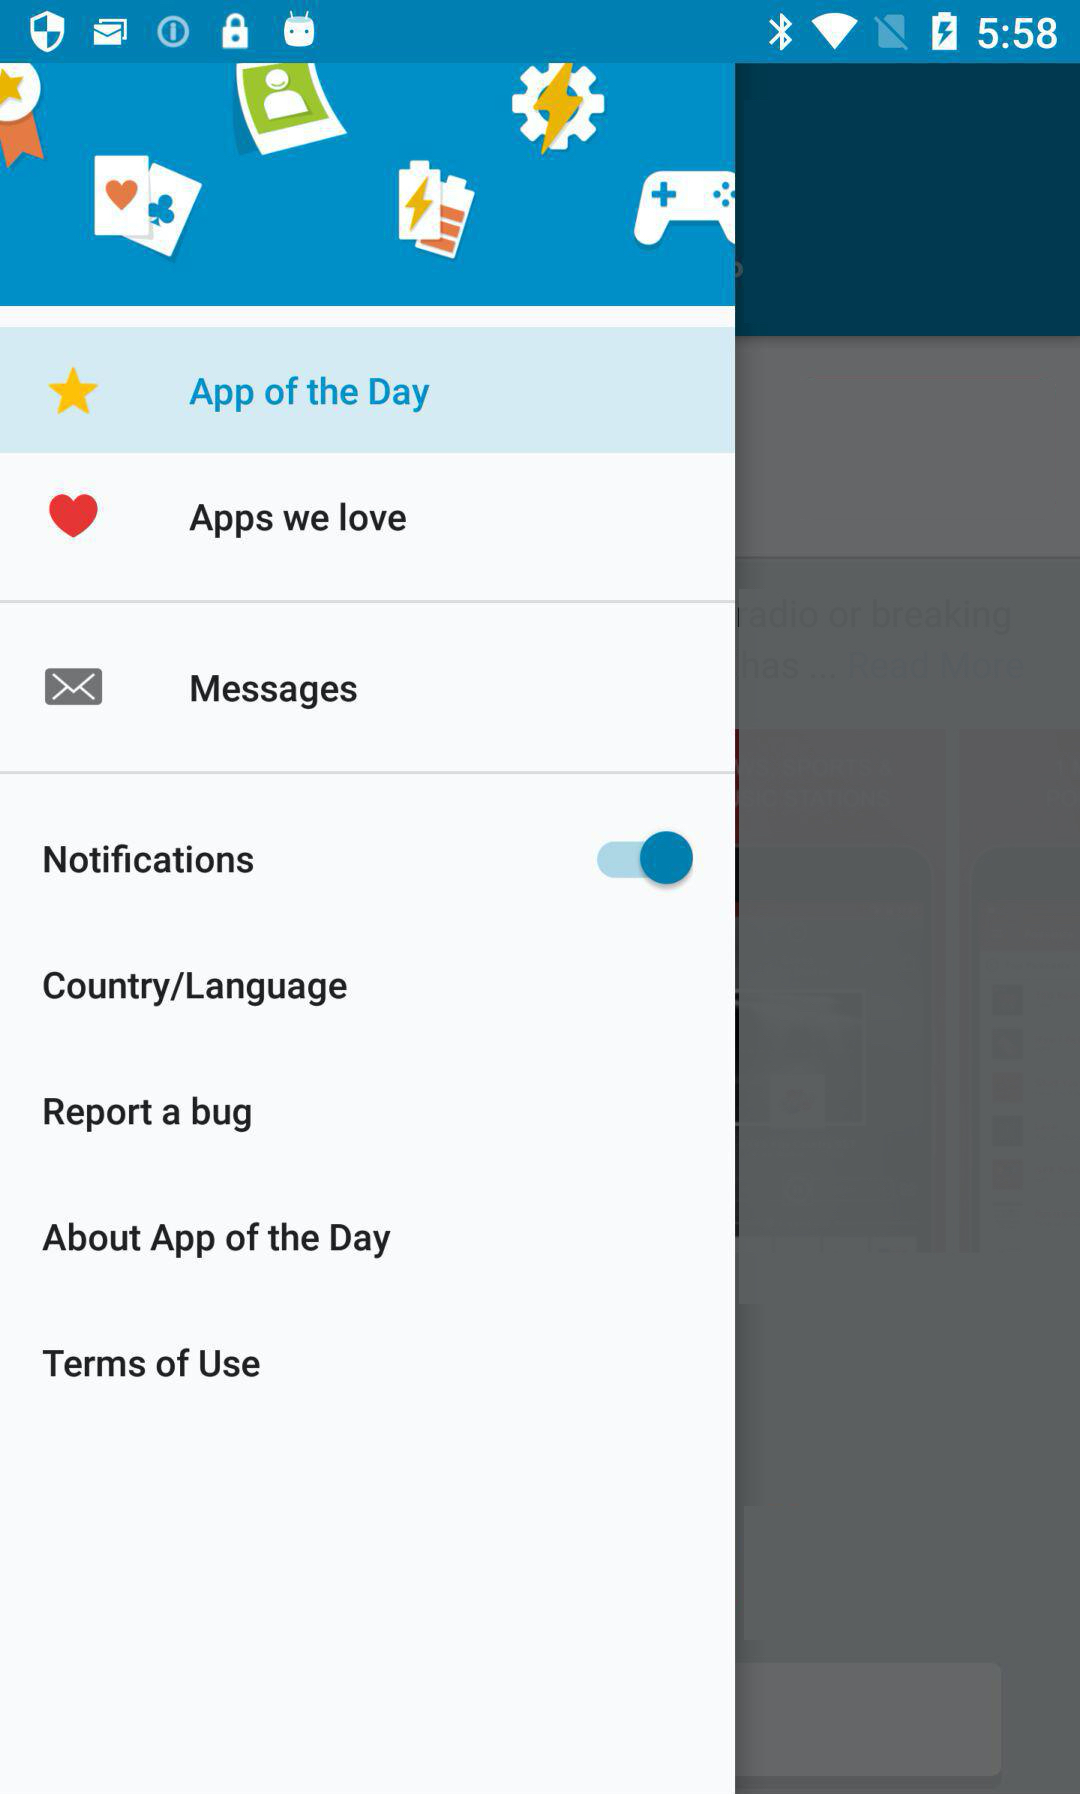Drawer: (1, 64, 735, 1790)
Icon: (49, 366, 100, 416), (49, 493, 100, 539), (45, 668, 104, 707)
Switch: (596, 830, 694, 888)
Text: (42, 1221, 392, 1258), (44, 971, 348, 1008), (188, 375, 430, 415), (44, 1096, 252, 1135), (190, 502, 407, 539), (42, 1347, 263, 1379), (44, 842, 255, 875), (190, 674, 359, 711)
UpperTaskBar: (1, 1, 1080, 64)
